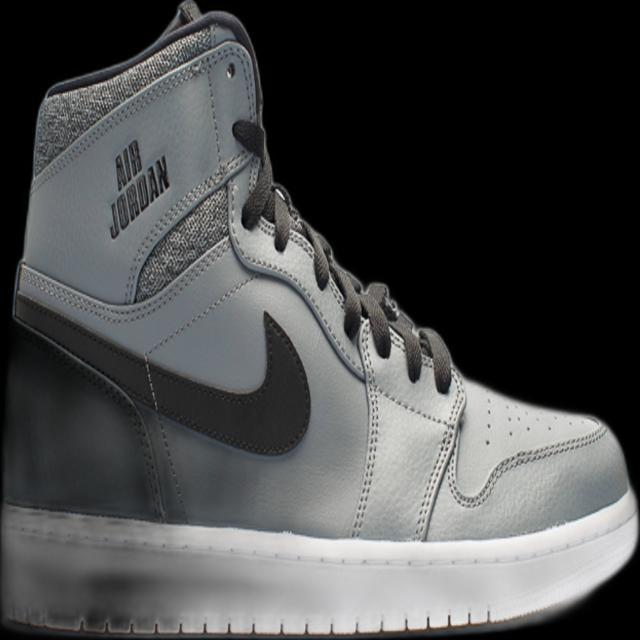J1_InsoleChar: (0, 0, 639, 639)
J1_ShoeLogo: (106, 137, 171, 239)
J1_StitchPattern: (265, 180, 608, 540), (117, 147, 455, 394), (12, 295, 190, 522), (267, 182, 455, 394), (346, 288, 466, 541), (31, 22, 220, 175), (125, 148, 253, 305), (4, 605, 497, 638), (269, 184, 366, 336), (446, 421, 609, 510), (357, 280, 455, 394), (410, 367, 467, 541), (137, 352, 191, 524), (348, 315, 382, 539), (357, 279, 399, 356), (415, 324, 455, 394)
